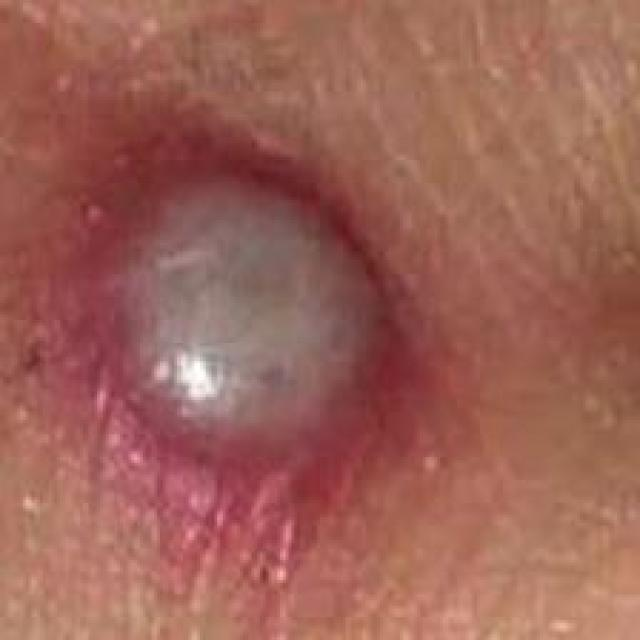monkeypox: (8, 48, 594, 612)
